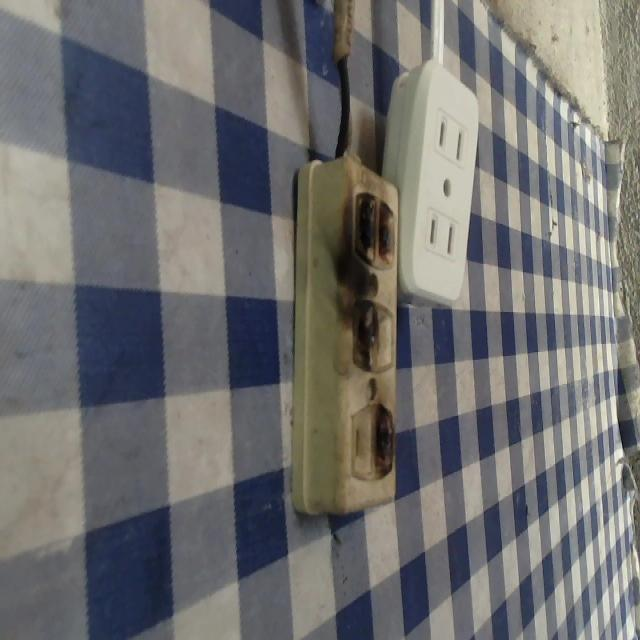-: (347, 171, 404, 280), (340, 289, 382, 376), (366, 396, 402, 481)
